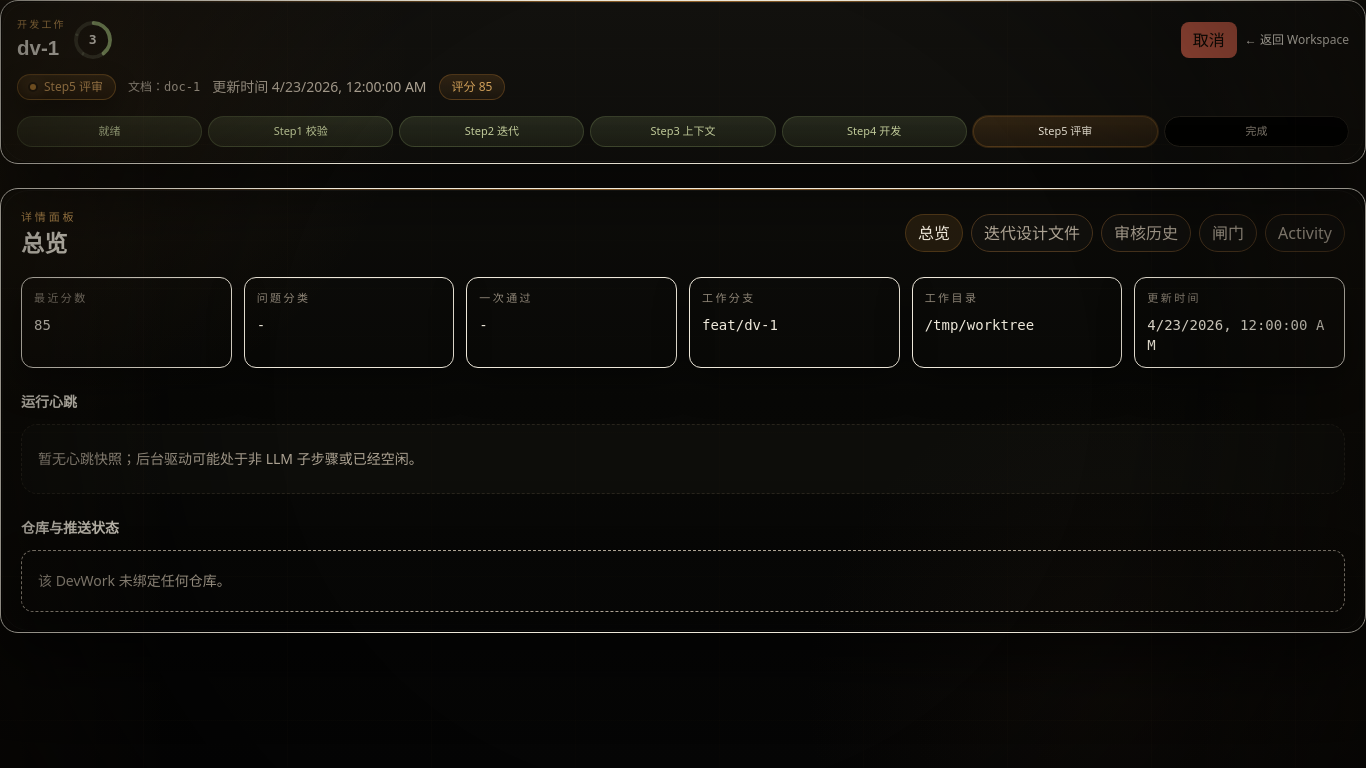
DevWorkPage › renders review history as structured summary cards
Click the tab with id "devwork-tab-reviews" at x=1146, y=233, box [1101,214,1191,252]
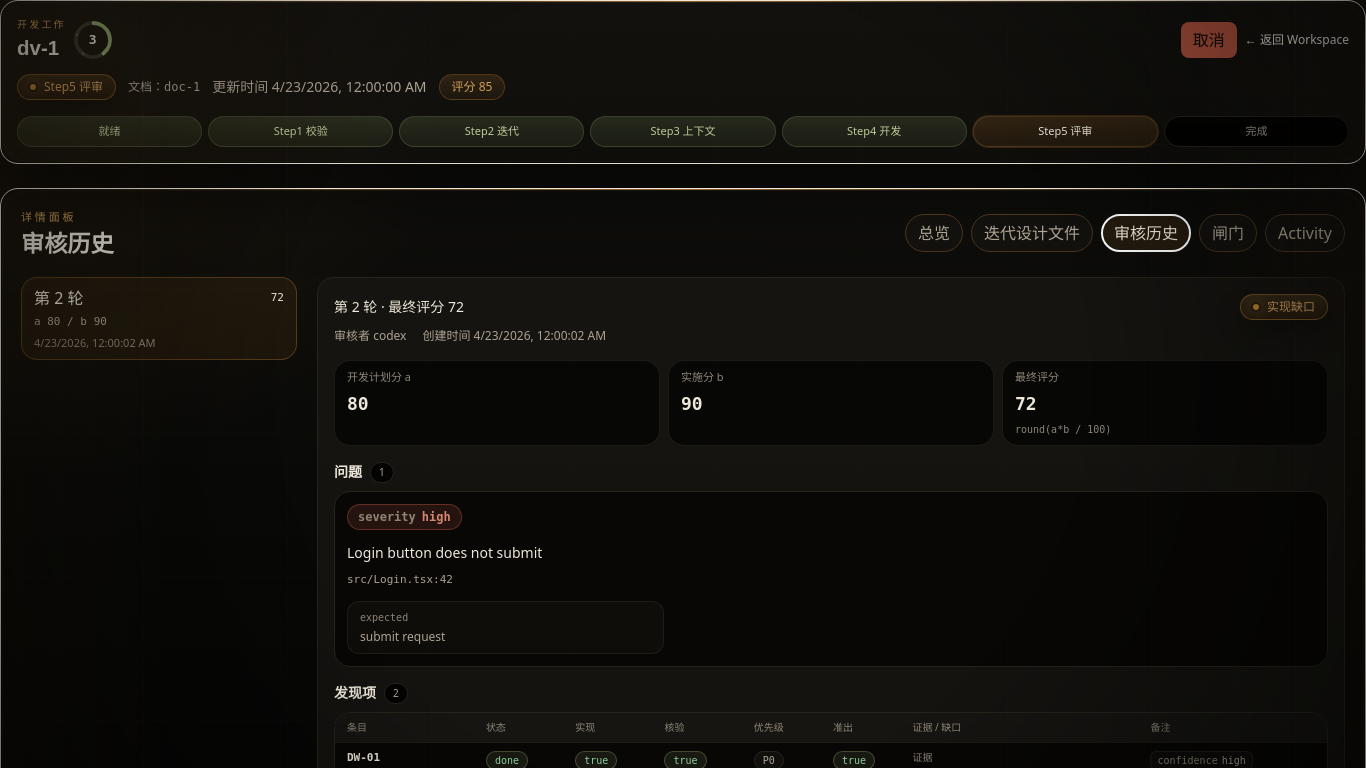
Now the text "Login button does not submit" is shown, box [347,542,542,562]
Now the column heading "实现" is shown, box [563,713,652,743]
Now the column heading "优先级" is shown, box [742,713,821,743]
